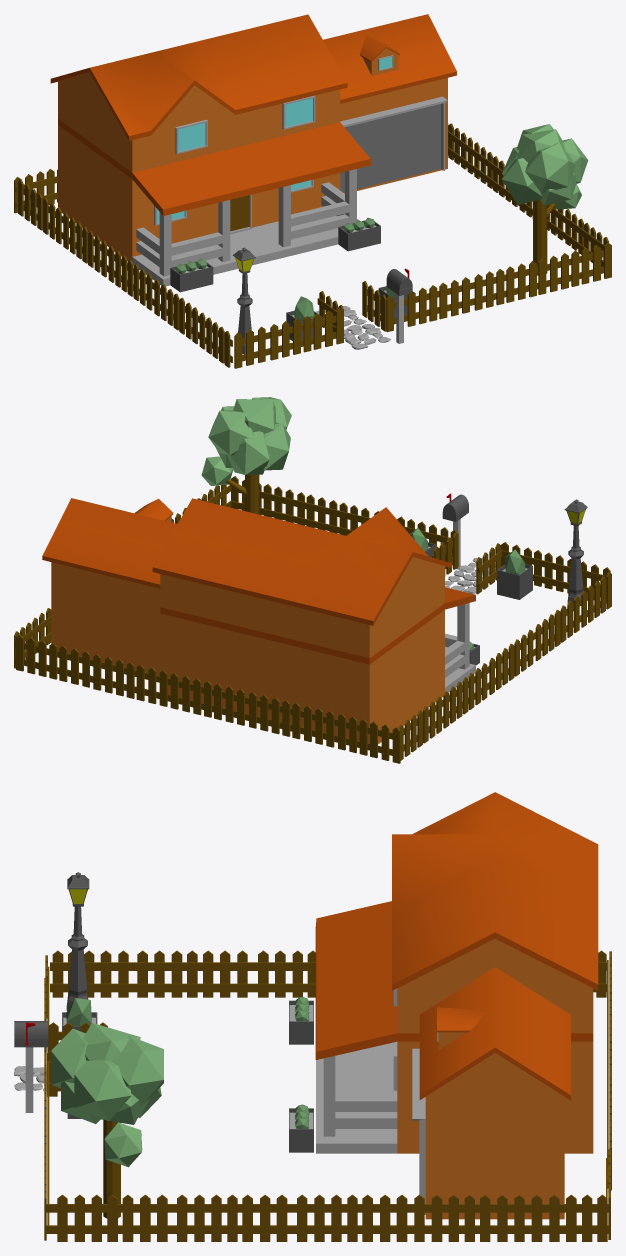
The picture shows the model from 3 angles, top to bottom: view 1: azimuth 30°, elevation 25°; view 2: azimuth 150°, elevation 25°; view 3: azimuth 270°, elevation 25°; orthographic projection. The views are drawn at different scales.
Parts seen in each view (by area): view 1: ee16; view 2: ee16; view 3: ee16.
Boxes of the visible parts, x1=… form: ee16: x1=14, y1=14, x2=611, y2=368; ee16: x1=14, y1=397, x2=611, y2=763; ee16: x1=14, y1=792, x2=611, y2=1241.
Size of the model in its own units: 25.08 by 11.09 by 25.71.
